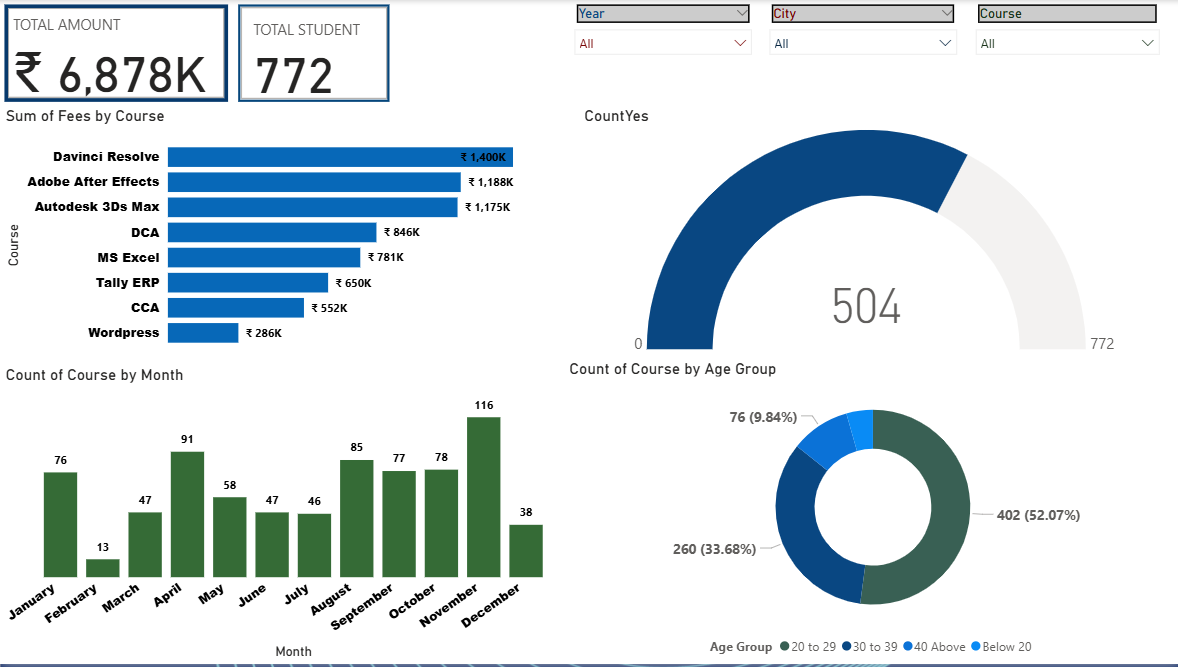

This screenshot's page, from the dashboard's own definition file:
{"tool":"powerbi","page":{"name":"Business Sales Project","canvas":[1280,720],"ordinal":0},"visuals":[{"type":"clusteredColumnChart","fields":{"Category":["Student course detail.Date of Join.Variation.Date Hierarchy.Year","Student course detail.Date of Join.Variation.Date Hierarchy.Quarter","Student course detail.Date of Join.Variation.Date Hierarchy.Month","Student course detail.Date of Join.Variation.Date Hierarchy.Day"],"Y":["Student course detail.Course"]},"box":[1,396,611,324],"z":0},{"type":"donutChart","fields":{"Category":["Student course detail.Age Group"],"Y":["Student course detail.Course"]},"box":[612.4,388.8,667.9,330.6],"z":1000},{"type":"clusteredBarChart","fields":{"Category":["Student course detail.Course"],"Y":["Student course detail.Fees"]},"box":[1.4,115.7,610,272.9],"z":2000},{"type":"cardVisual","fields":{"Data":["Student course detail.Fees"]},"box":[0,0,252.9,115.7],"z":3000},{"type":"cardVisual","fields":{"Data":["Student course detail.Student Name"]},"box":[252.9,0,174.3,115.7],"z":4000},{"type":"gauge","fields":{"Y":["Student course detail.Countyes"]},"box":[628.6,115.2,638.1,273.7],"z":5000},{"type":"slicer","fields":{"Values":["Student course detail.Date of Join.Variation.Date Hierarchy.Year"]},"box":[612.4,0,212.7,115.2],"z":6000},{"type":"slicer","fields":{"Values":["personal details.City"]},"box":[823.7,0,223.5,115.2],"z":7000},{"type":"slicer","fields":{"Values":["Student course detail.Course"]},"box":[1047.3,0,219.5,115.2],"z":8000}]}

Visuals, with their boxes in screenshot pixels (x1, y1, x2, y2), scaled from the page's 1280x720 canvas onto the 1178x667 screenshot:
clusteredColumnChart - Student course detail.Date of Join.Variation.Date Hierarchy.Year x Student course detail.Date of Join.Variation.Date Hierarchy.Quarter: [1, 367, 563, 666]
donutChart - Student course detail.Age Group x Student course detail.Course: [564, 360, 1177, 666]
clusteredBarChart - Student course detail.Course x Student course detail.Fees: [1, 107, 563, 360]
cardVisual - Student course detail.Fees: [0, 0, 233, 107]
cardVisual - Student course detail.Student Name: [233, 0, 393, 107]
gauge - Student course detail.Countyes: [579, 107, 1166, 360]
slicer - Student course detail.Date of Join.Variation.Date Hierarchy.Year: [564, 0, 759, 107]
slicer - personal details.City: [758, 0, 964, 107]
slicer - Student course detail.Course: [964, 0, 1166, 107]
